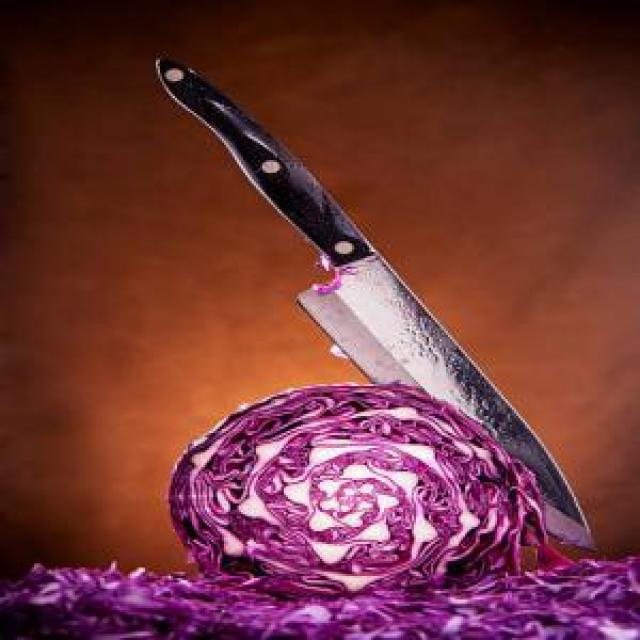knife: (152, 54, 598, 552)
